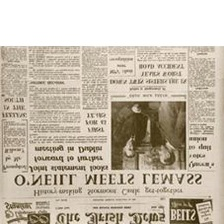news_paper: (0, 45, 224, 224)
